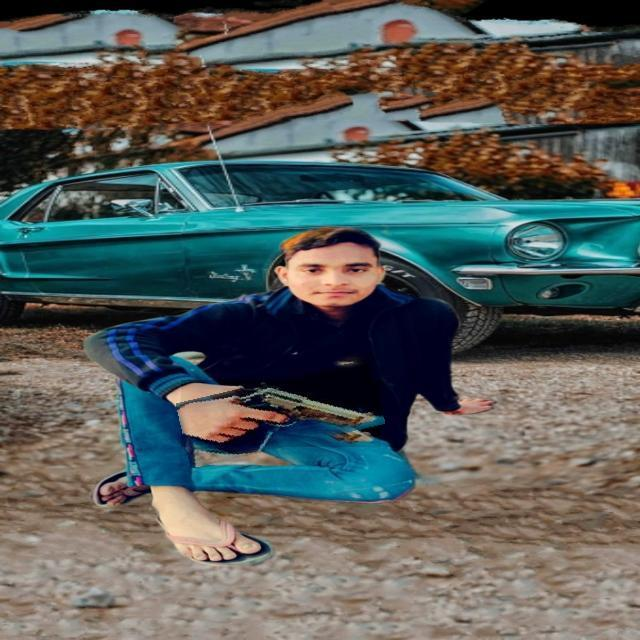handgun: (178, 370, 384, 458)
